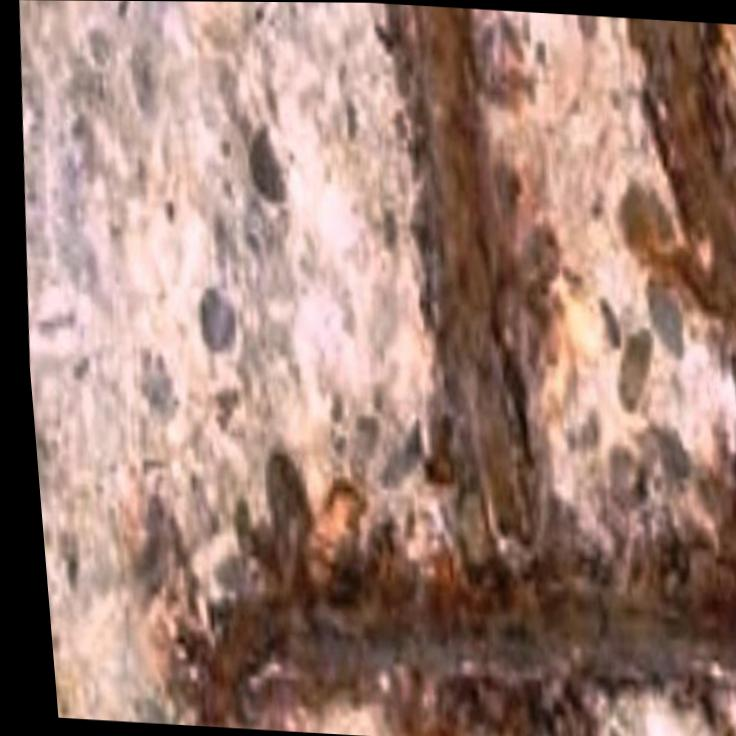damage: (19, 0, 736, 736)
